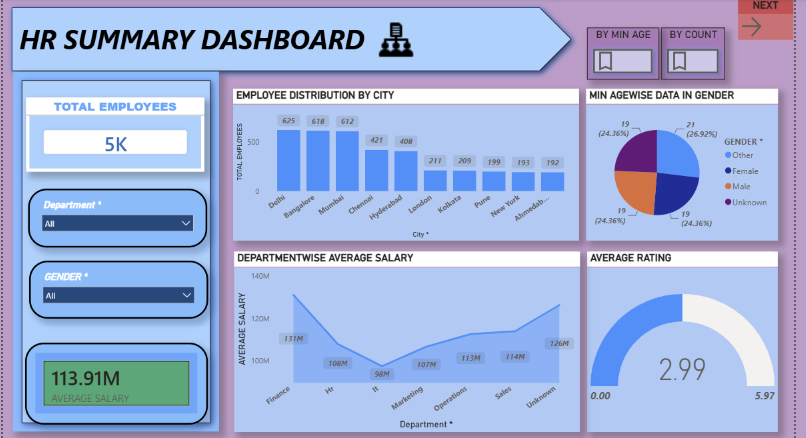

The page's visual inventory and layout, read from the dashboard file:
{"tool":"powerbi","page":{"name":"Page 1","canvas":[1280,720],"ordinal":0},"visuals":[{"type":"shape","box":[0,0,934.3,131.2],"z":0},{"type":"group","id":"g1","title":"Group 2","box":[16.2,118.2,333.6,582.9],"z":0,"group":"g2"},{"type":"shape","box":[16.2,118.2,333.6,582.9],"z":0,"group":"g1"},{"type":"textbox","box":[21.4,30,655.7,71.4],"z":1000},{"type":"cardVisual","title":"TOTAL EMPLOYEES","fields":{"Data":["MEASURE TABLE.TOTAL EMPLOYEES"]},"box":[37.9,159.8,288.3,120],"z":1000,"group":"g1"},{"type":"slicer","fields":{"Values":["WORKSHEET.Department *"]},"box":[40.2,307.3,289.8,95.5],"z":2000,"group":"g1"},{"type":"clusteredColumnChart","title":"EMPLOYEE DISTRIBUTION BY CITY","fields":{"Category":["WORKSHEET.City *"],"Y":["MEASURE TABLE.TOTAL EMPLOYEES"]},"box":[372.4,145.7,560.3,246.1],"z":3000},{"type":"slicer","fields":{"Values":["WORKSHEET.GENDER *"]},"box":[41.8,423.9,289.8,93.9],"z":3000,"group":"g1"},{"type":"actionButton","title":"NEXT","box":[1190.1,0,89.1,66.4],"z":4000},{"type":"cardVisual","fields":{"Data":["MEASURE TABLE.AVERAGE SALARY"]},"box":[35.6,556.7,296.3,132.8],"z":4000,"group":"g1"},{"type":"gauge","fields":{"Y":["MEASURE TABLE.AVERAGE RATING"]},"box":[945,410,308.3,291.7],"z":5000},{"type":"stackedAreaChart","title":"DEPARTMENTWISE AVERAGE SALARY ","fields":{"Y":["MEASURE TABLE.AVERAGE SALARY"],"Category":["WORKSHEET.Department *"]},"box":[373.3,410,560,291.7],"z":6000},{"type":"group","id":"g2","title":"Group 1","box":[16.2,118.2,333.6,582.9],"z":7000},{"type":"actionButton","box":[600.7,30.8,77.7,71.2],"z":8000},{"type":"pieChart","title":"MIN AGEWISE DATA IN GENDER","fields":{"Category":["WORKSHEET.GENDER *"],"Y":["Min(WORKSHEET.AGE *)"]},"box":[944,145.7,310.9,246.1],"z":9000},{"type":"actionButton","title":"BY COUNT","box":[1065.5,47,103.6,84.2],"z":10000},{"type":"actionButton","title":"BY MIN AGE","box":[945.6,47,116.6,84.2],"z":11000}]}

Visuals, with their boxes on the page's 1280x720 design canvas (x1, y1, x2, y2). These are canvas units, not pixel positions in the 807x438 screenshot, which may show the page scaled, cropped or inside an application window:
shape: left=0, top=0, right=934, bottom=131
"Group 2" group: left=16, top=118, right=350, bottom=701
shape: left=16, top=118, right=350, bottom=701
textbox: left=21, top=30, right=677, bottom=101
"TOTAL EMPLOYEES" cardVisual: left=38, top=160, right=326, bottom=280
slicer - WORKSHEET.Department *: left=40, top=307, right=330, bottom=403
"EMPLOYEE DISTRIBUTION BY CITY" clusteredColumnChart: left=372, top=146, right=933, bottom=392
slicer - WORKSHEET.GENDER *: left=42, top=424, right=332, bottom=518
"NEXT" actionButton: left=1190, top=0, right=1279, bottom=66
cardVisual - MEASURE TABLE.AVERAGE SALARY: left=36, top=557, right=332, bottom=690
gauge - MEASURE TABLE.AVERAGE RATING: left=945, top=410, right=1253, bottom=702
"DEPARTMENTWISE AVERAGE SALARY " stackedAreaChart: left=373, top=410, right=933, bottom=702
"Group 1" group: left=16, top=118, right=350, bottom=701
actionButton: left=601, top=31, right=678, bottom=102
"MIN AGEWISE DATA IN GENDER" pieChart: left=944, top=146, right=1255, bottom=392
"BY COUNT" actionButton: left=1066, top=47, right=1169, bottom=131
"BY MIN AGE" actionButton: left=946, top=47, right=1062, bottom=131
